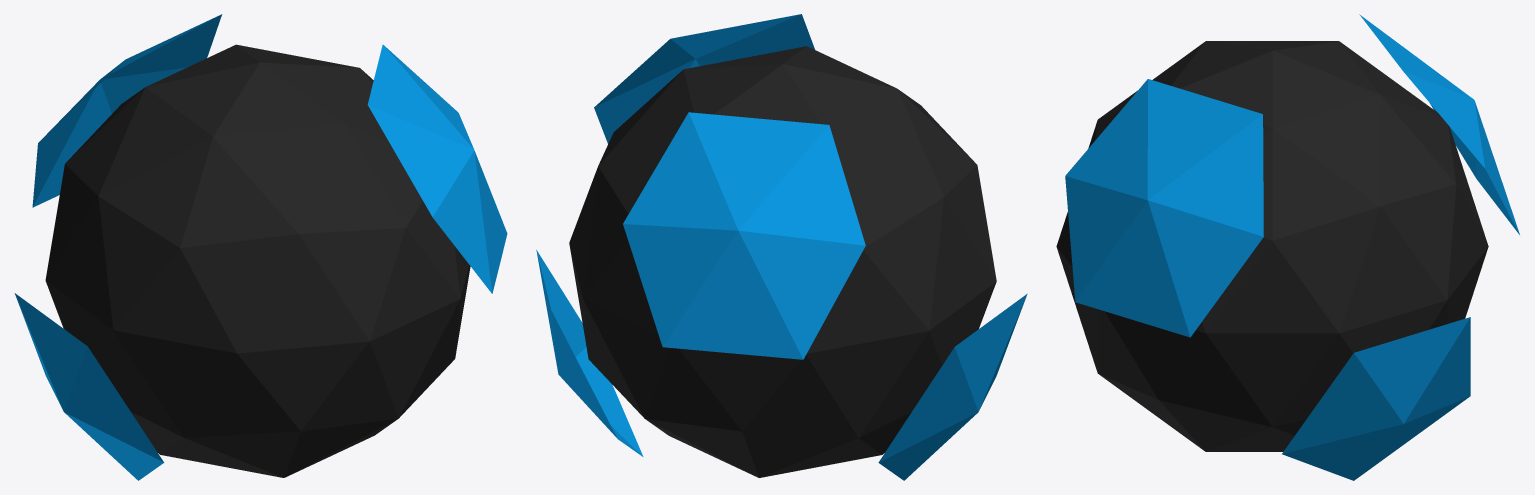
The model's file is problem-ball.fbx.
3 views of the same model, side by side, from view 1: azimuth 30°, elevation 25°; view 2: azimuth 150°, elevation 25°; view 3: azimuth 270°, elevation 25° (orthographic).
Visible parts, largest first — view 1: Icosphere; view 2: Icosphere; view 3: Icosphere.
Part boxes in pixels (x1,y1,x2,y2): Icosphere: (14,14,507,480); Icosphere: (536,14,1027,480); Icosphere: (1056,14,1519,480).
Size of the model in its own units: 203 by 186 by 200.
